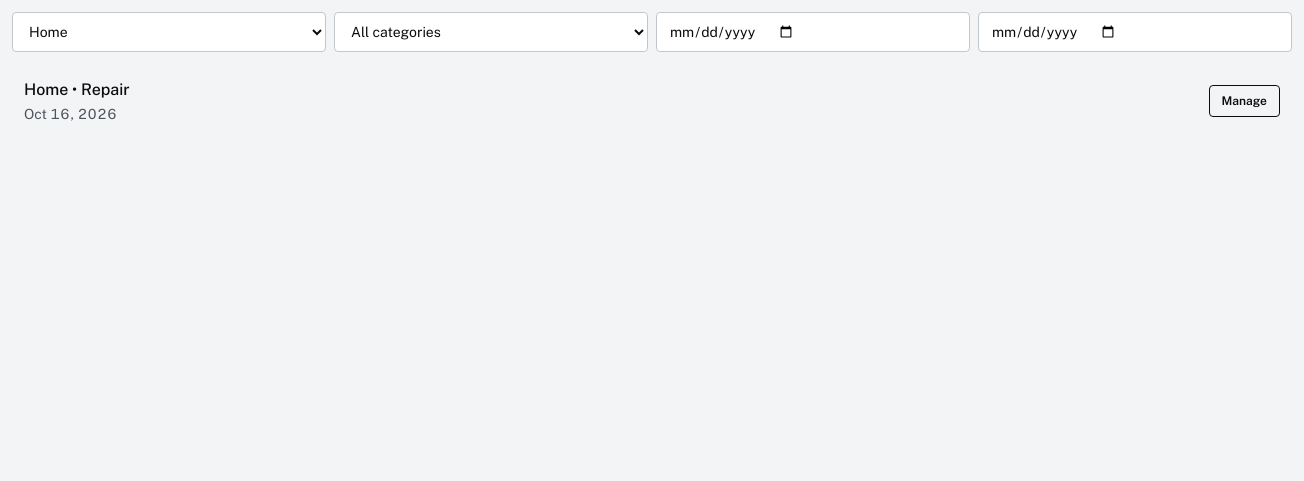
form upload budgets › keeps edited expense fields after a thrown action
The width and height of the screenshot is (1304, 481).
Click the button "Manage" at (1244, 101), box [1208, 85, 1280, 117]
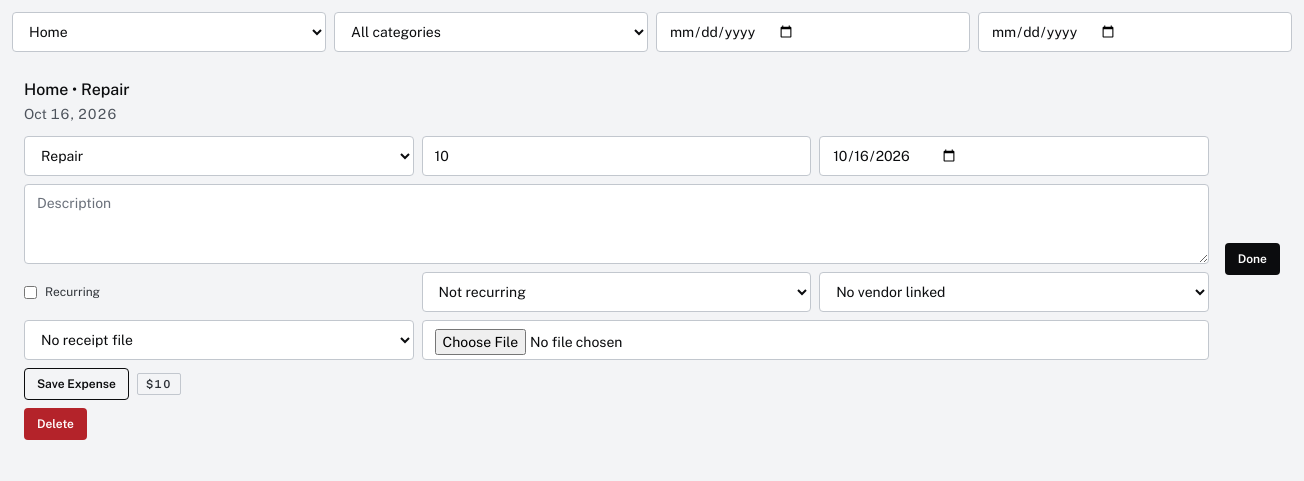
Replace the text in the number field named "amountDollars" with "25" at (616, 156), box [422, 136, 811, 176]
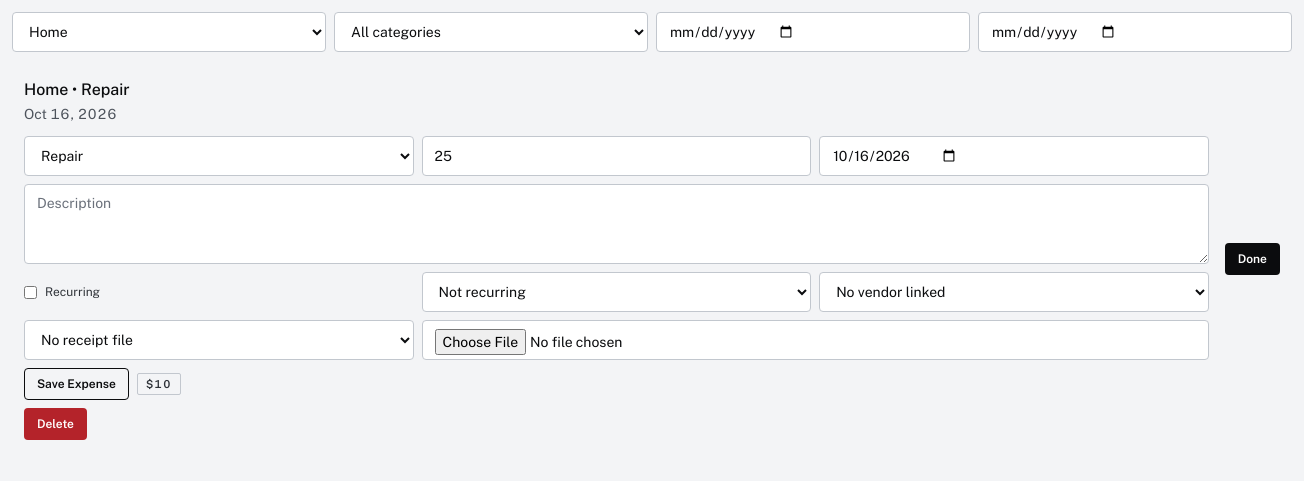
Type "New roof" into the text box named "description" at (616, 224), box [24, 184, 1209, 264]
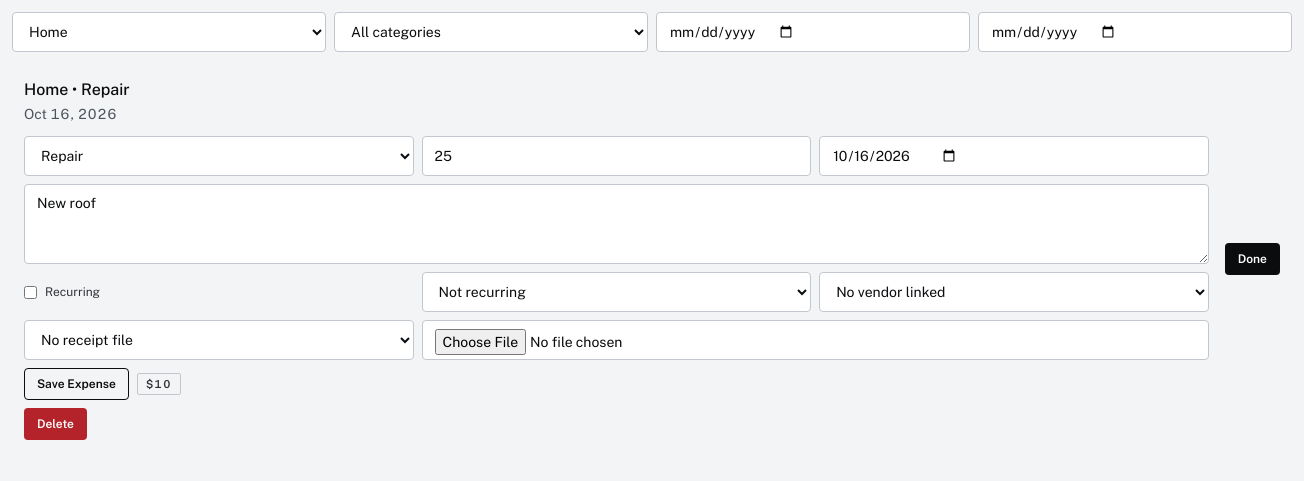
Submit the form named "amountDollars", box [24, 136, 1209, 400]
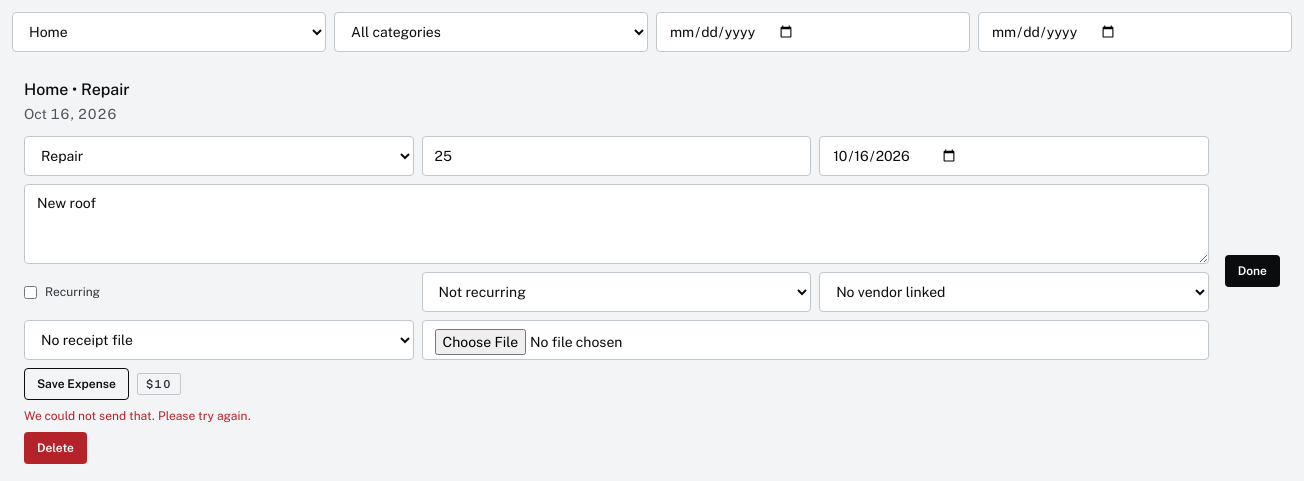
expect the text "We could not send that. Please try again." is shown: met, box [24, 409, 251, 423]
